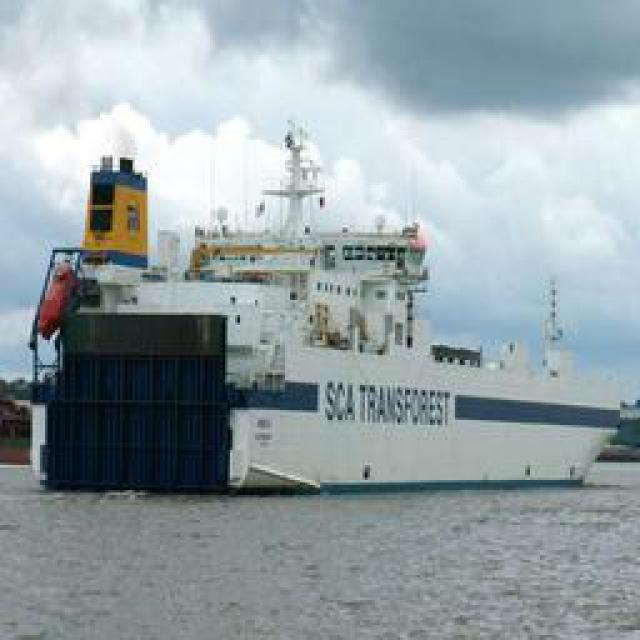Ship: (32, 100, 615, 495)
